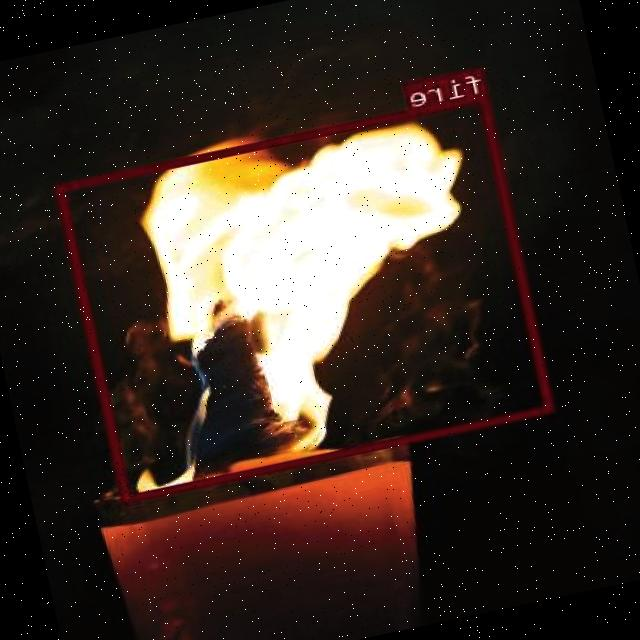fire: (58, 91, 558, 502)
